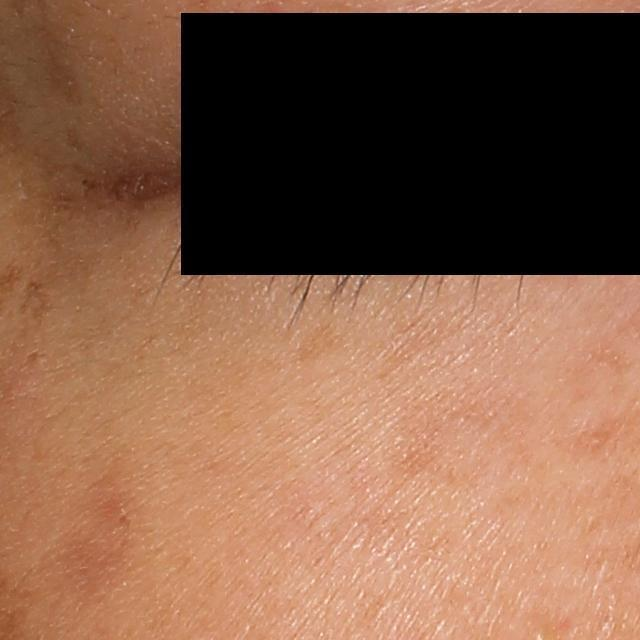melasma: (385, 373, 547, 483), (31, 478, 147, 615), (283, 319, 368, 366), (18, 277, 57, 323)
